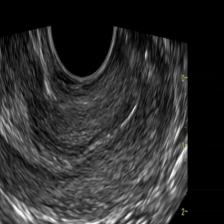no-pcos: (0, 62, 183, 224)
